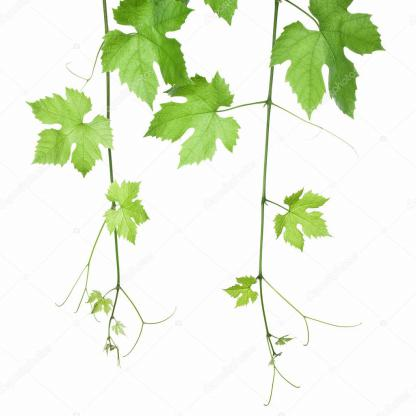grape leaf: (269, 0, 384, 127), (139, 68, 243, 178), (97, 3, 200, 108), (19, 88, 116, 187), (267, 186, 335, 256), (98, 178, 151, 242)
